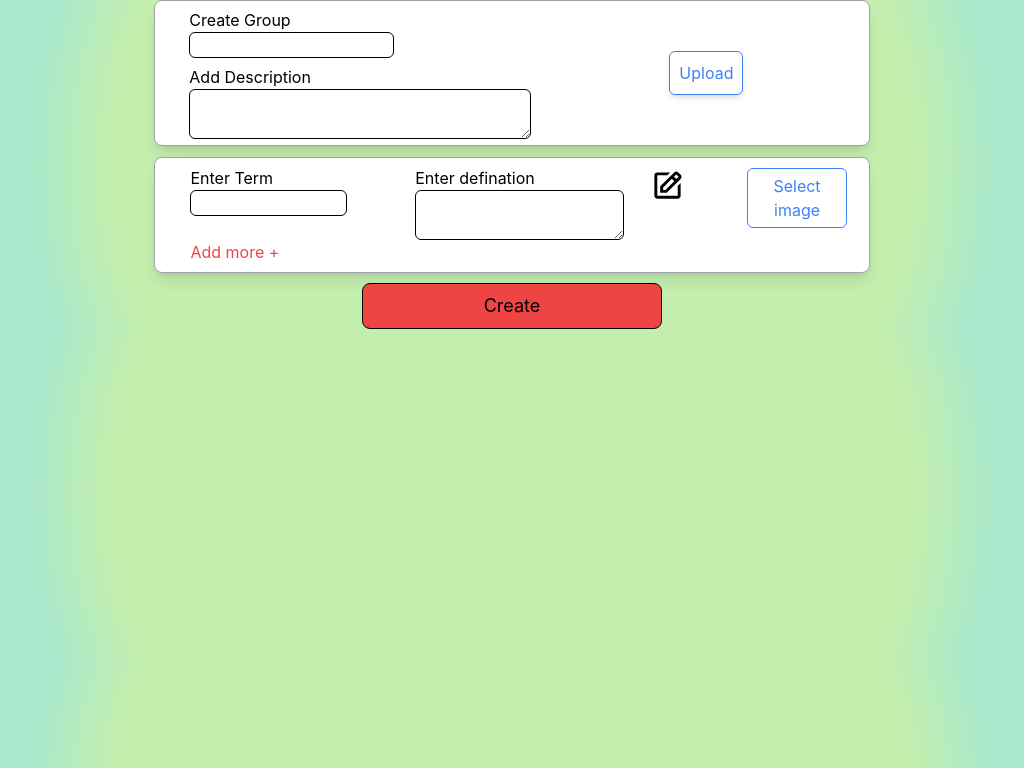
Test: testing Create New component › Rendering Enter term and Enter defination when clicked on Add more button
The width and height of the screenshot is (1024, 768).
Click the button "Add more +". click: (235, 252)
box: [190, 240, 279, 264]
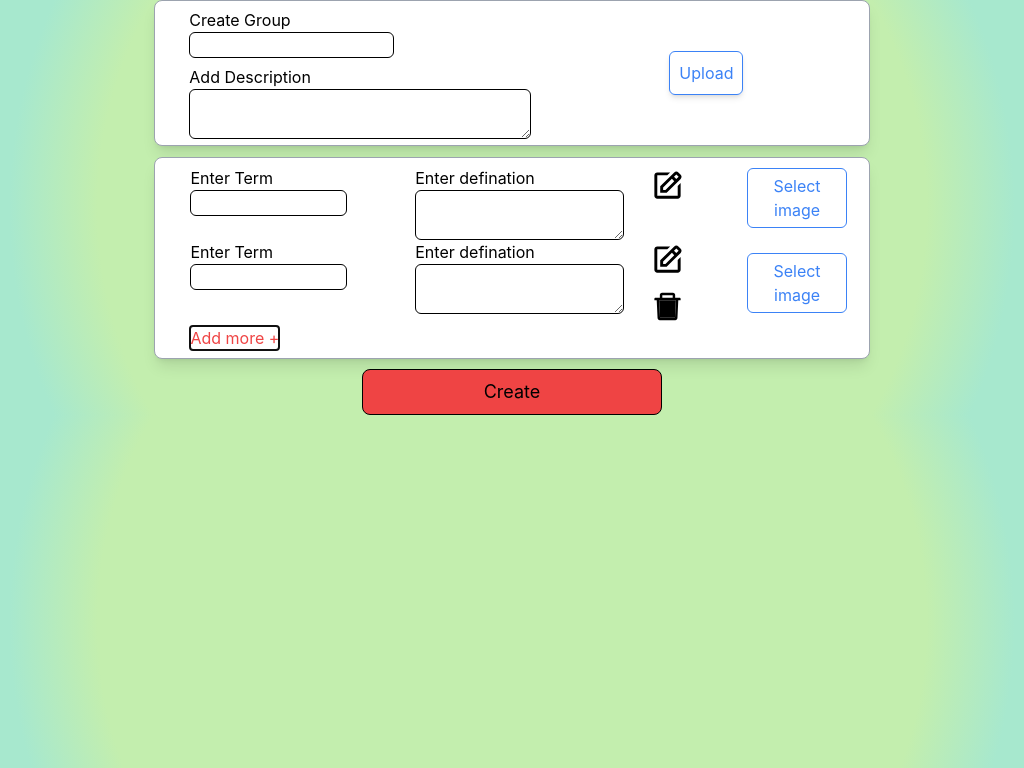
Now the text "Enter Term" is shown 2 times, box [190, 168, 273, 188]; [190, 242, 273, 262]
